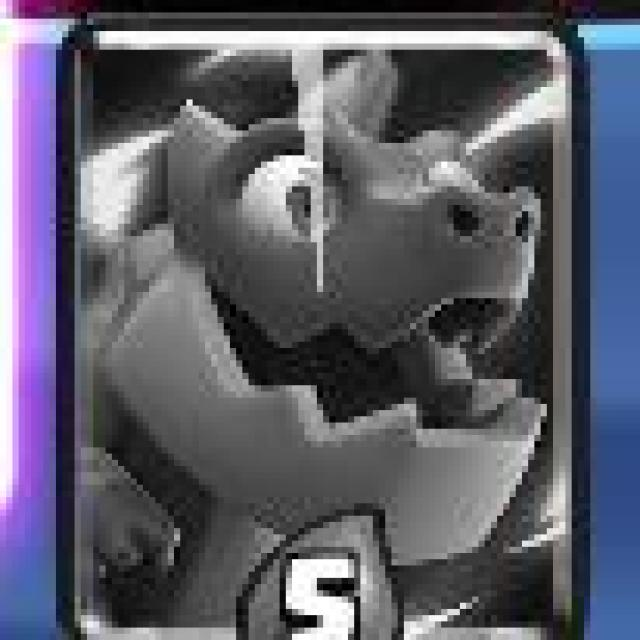Electro_Dragon: (49, 11, 594, 640)
